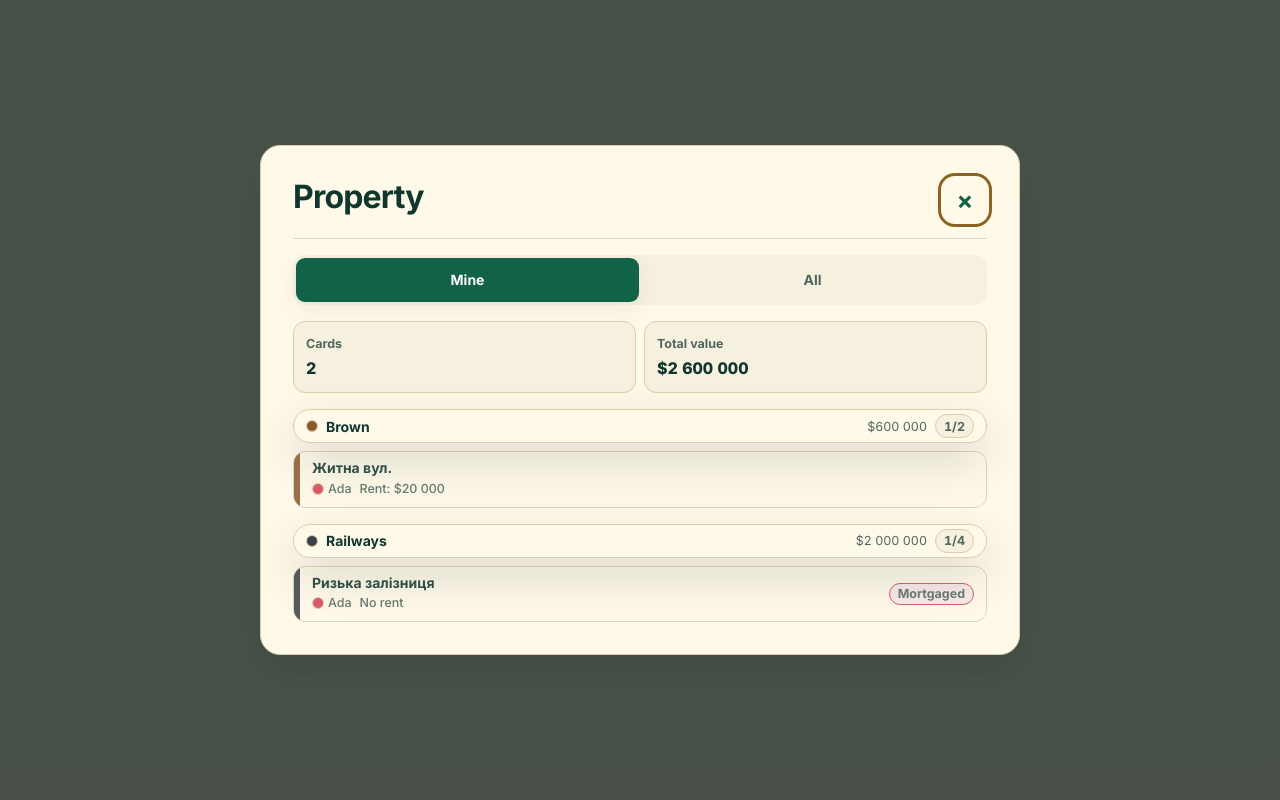
Test: PropertyScreen › lists free cards first, then owned ones, each by colour group from the cheapest
Click the radio button labelled "All" at (812, 280), box [641,258,984,302]
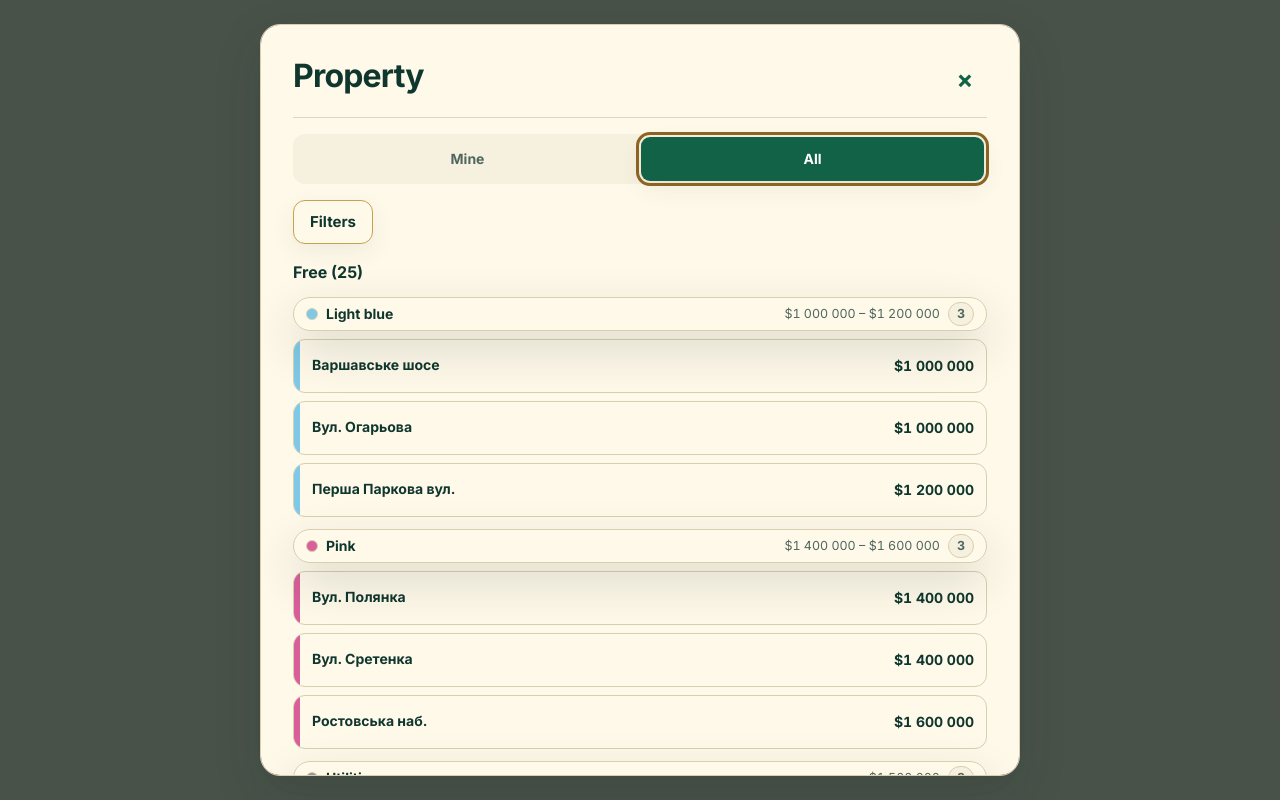
Now the button "Варшавське шосе $1 000 000" is shown, box [293,339,987,393]
